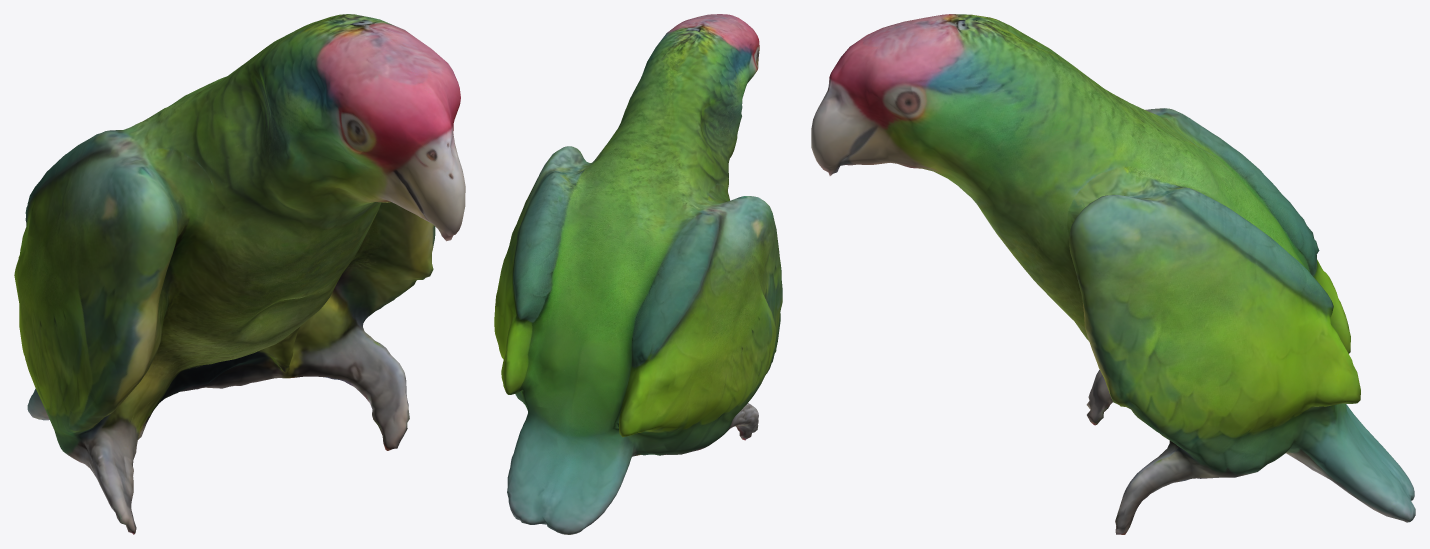
File: guacamaya.glb
3 views of the same model, side by side, from view 1: azimuth 30°, elevation 25°; view 2: azimuth 150°, elevation 25°; view 3: azimuth 270°, elevation 25° (orthographic). The views are drawn at different scales.
Bounding box in the file's own units: 0.733 × 1.09 × 1.2.
Materials: 1 (1 with a texture image).
